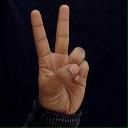hand: (30, 4, 89, 115)
